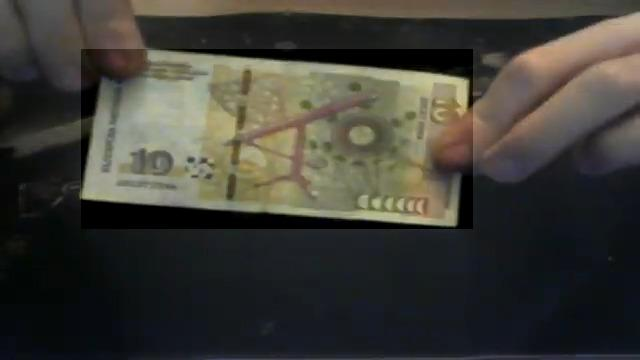10leva: (81, 49, 473, 229)
